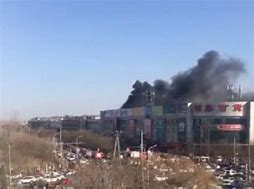smoke: (122, 48, 245, 108)
